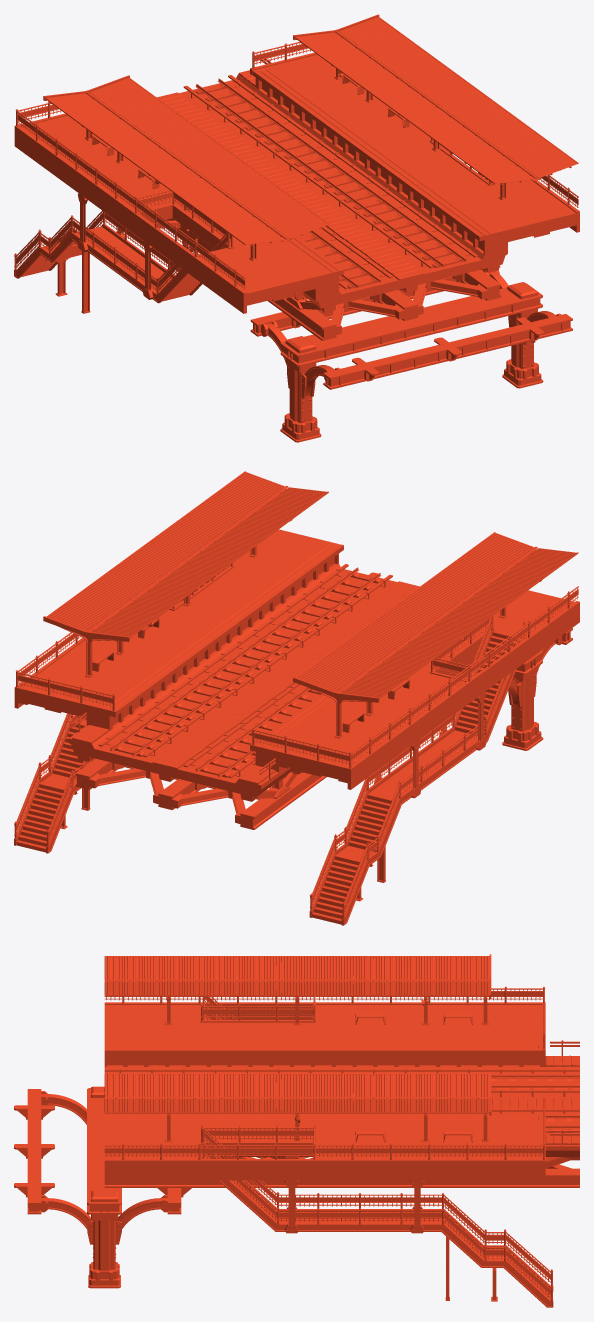
File: SM_Rails_Overground_Station_A_City.fbx
3 views of the same model, one above another, from view 1: azimuth 30°, elevation 25°; view 2: azimuth 150°, elevation 25°; view 3: azimuth 270°, elevation 25° (orthographic). The views are drawn at different scales.
Visible parts, largest first — view 1: SM_Rails_Overground_Station_A_City; view 2: SM_Rails_Overground_Station_A_City; view 3: SM_Rails_Overground_Station_A_City.
Boxes of the visible parts, x1=… form: SM_Rails_Overground_Station_A_City: x1=14, y1=14, x2=579, y2=442; SM_Rails_Overground_Station_A_City: x1=14, y1=471, x2=579, y2=925; SM_Rails_Overground_Station_A_City: x1=14, y1=954, x2=579, y2=1307.
Bounding box in the file's own units: 23.64 × 13.71 × 35.71.
